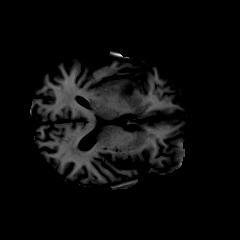glioma: (89, 64, 142, 107)
